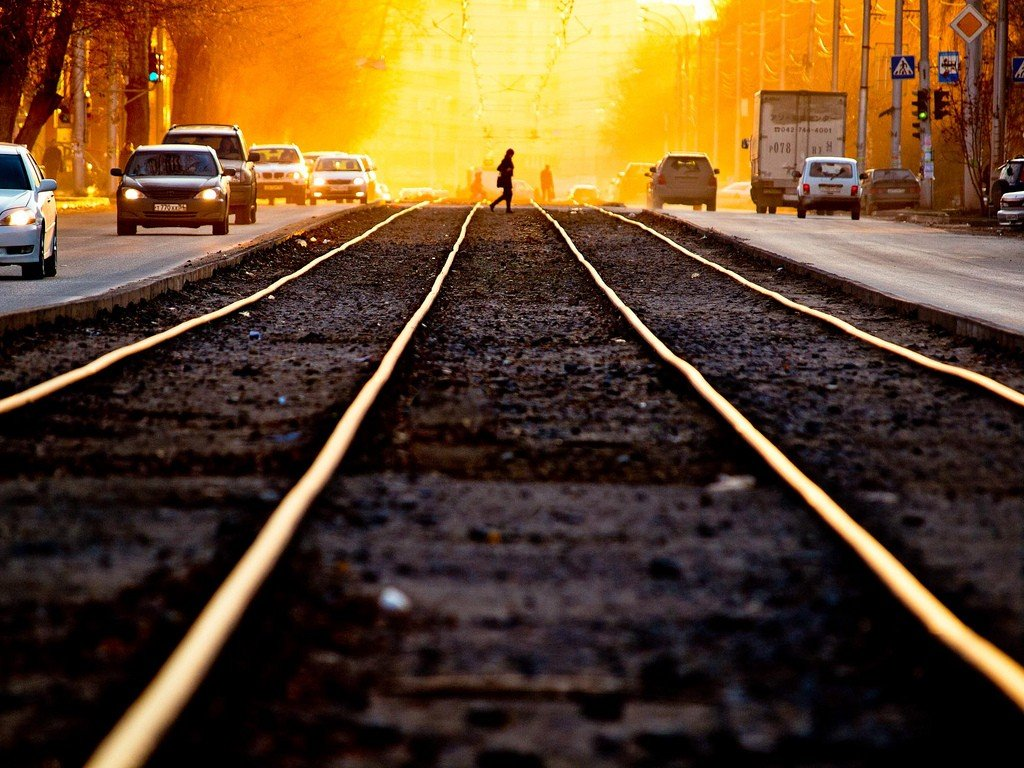sign: (950, 2, 989, 43), (936, 50, 961, 85), (890, 53, 918, 80), (1010, 55, 1024, 83)
